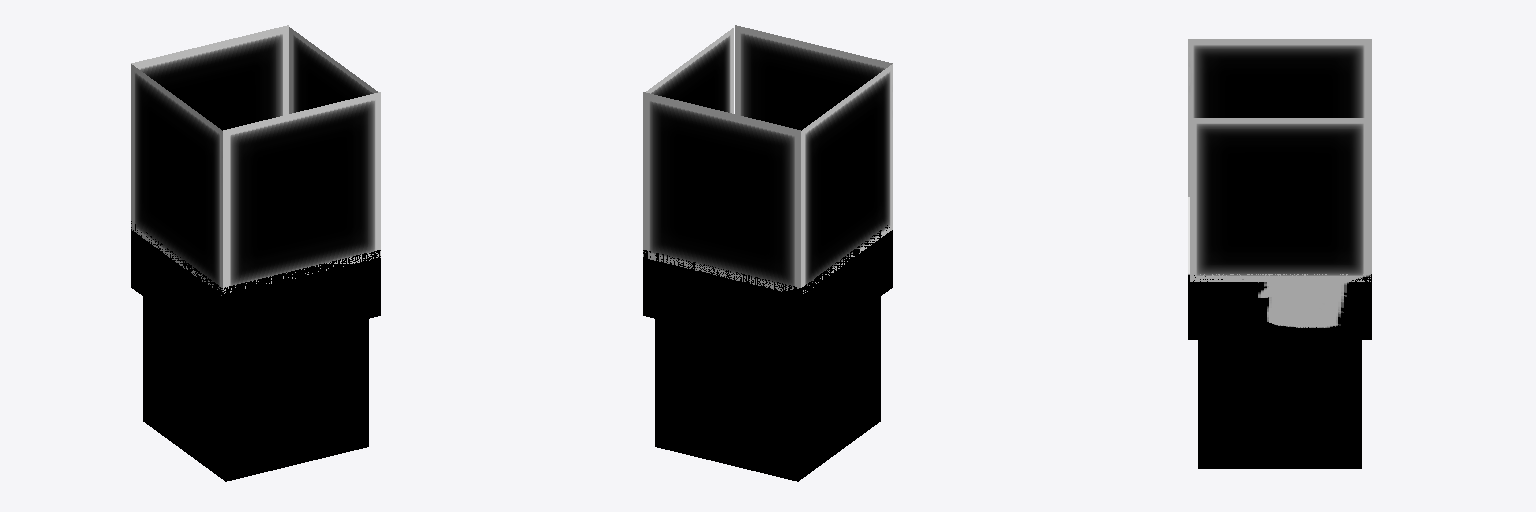
3 renders of one model, left to right at view 1: azimuth 30°, elevation 25°; view 2: azimuth 150°, elevation 25°; view 3: azimuth 270°, elevation 25°, orthographic.
Visible parts, largest first — view 1: 平面.004; view 2: 平面.004; view 3: 平面.004.
Boxes of the visible parts, x1=… form: 平面.004: x1=131, y1=25, x2=380, y2=481; 平面.004: x1=643, y1=25, x2=892, y2=481; 平面.004: x1=1188, y1=39, x2=1371, y2=468.
Size of the model in its own units: 20 by 43 by 20.
1 materials, 1 textured.